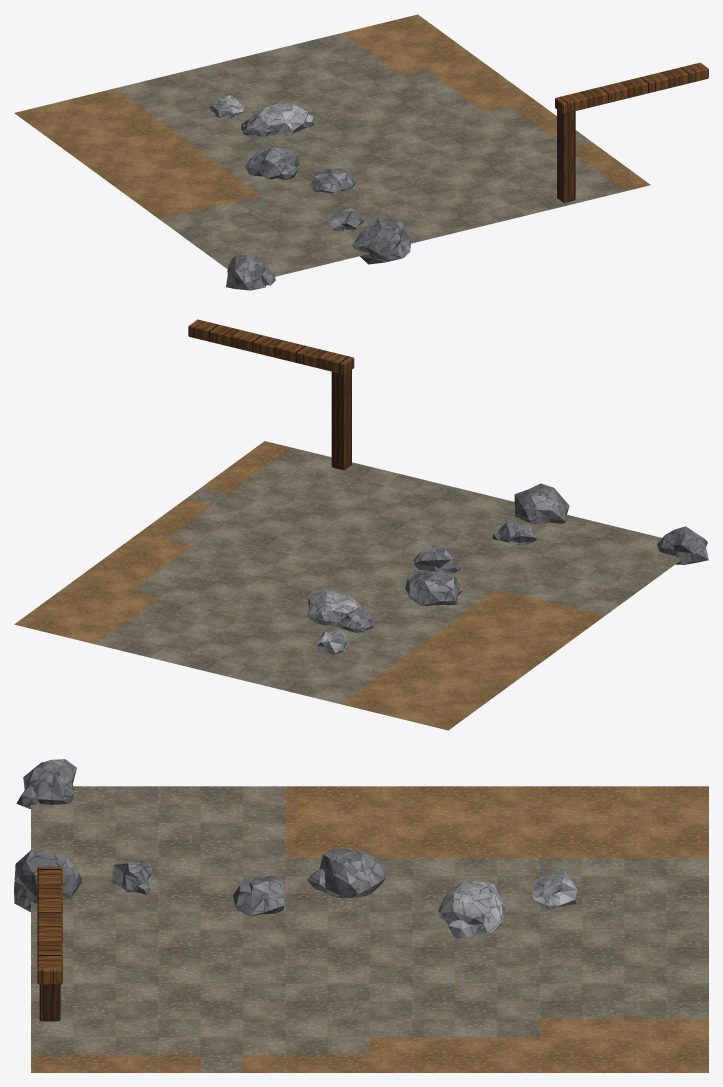
The model's file is chunk_5_17.glb.
3 views of the same model, one above another, from view 1: azimuth 30°, elevation 25°; view 2: azimuth 150°, elevation 25°; view 3: azimuth 270°, elevation 25° (orthographic). The views are drawn at different scales.
Visible parts, largest first — view 1: chunk_5_17; view 2: chunk_5_17; view 3: chunk_5_17.
Boxes of the visible parts, left/top/right/bottom form: chunk_5_17: left=14, top=14, right=708, bottom=290; chunk_5_17: left=14, top=319, right=708, bottom=730; chunk_5_17: left=14, top=759, right=708, bottom=1072.
Size of the model in its own units: 19 by 4.31 by 16.4.
Materials: 7 (7 with a texture image).
